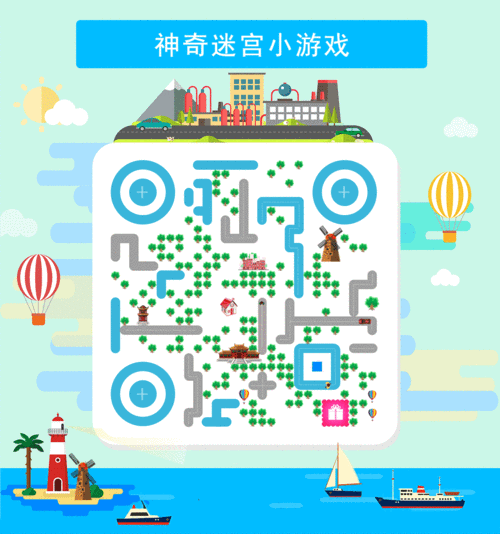QRCode: (102, 154, 388, 432)
